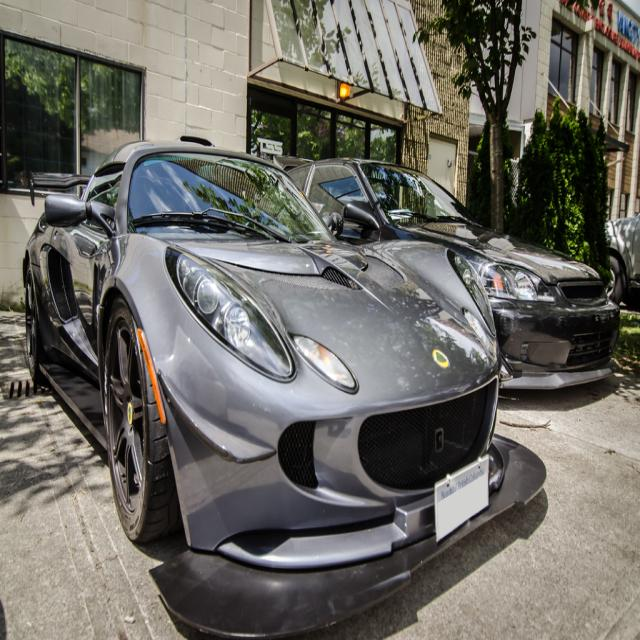Car: (23, 135, 547, 640), (274, 153, 620, 390), (603, 213, 640, 306)
